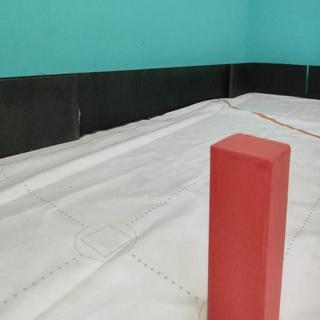redbox: (210, 132, 291, 320)
